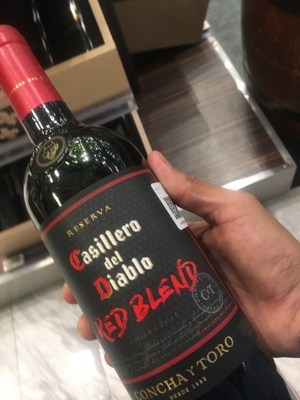casillero del diablo red blend: (10, 41, 275, 400)
